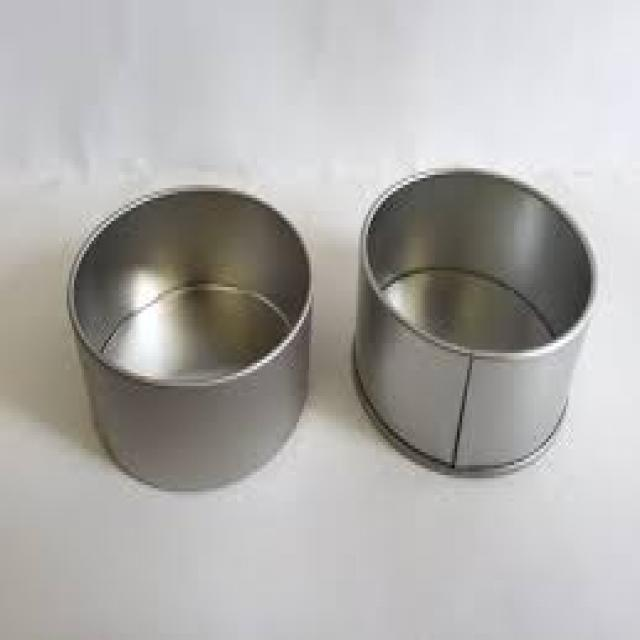recyclable: (64, 183, 314, 494), (353, 163, 597, 476)
